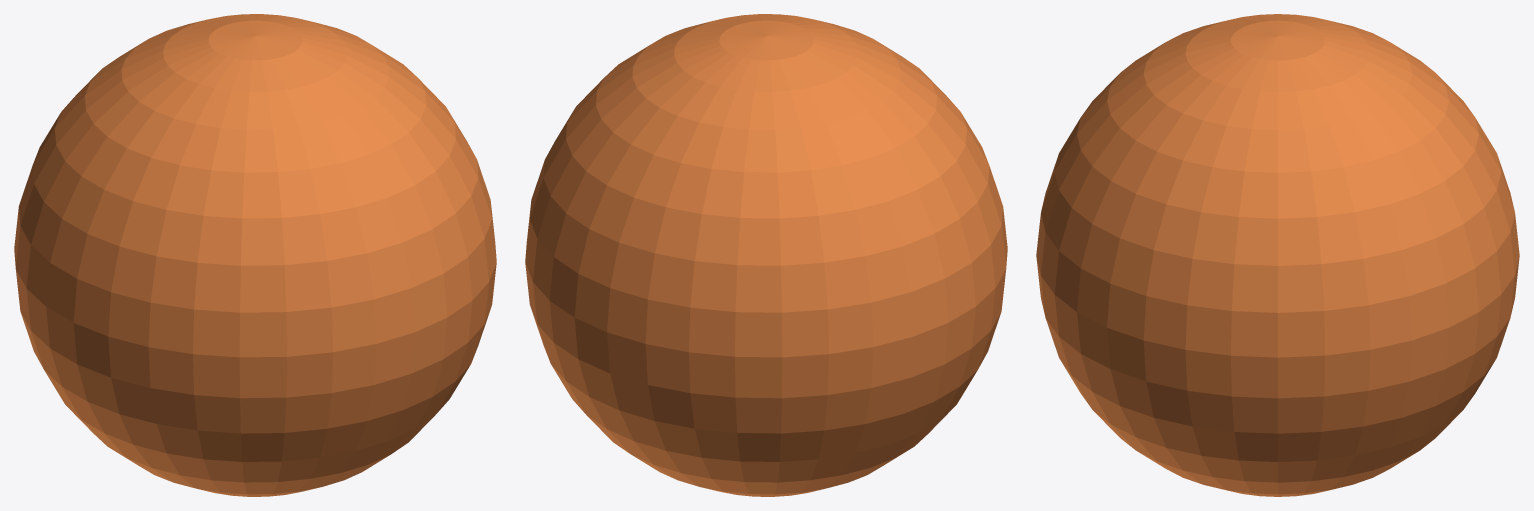
Rendered from kyuu.fbx.
3 views of the same model, side by side, from view 1: azimuth 30°, elevation 25°; view 2: azimuth 150°, elevation 25°; view 3: azimuth 270°, elevation 25° (orthographic).
Parts seen in each view (by area): view 1: Sphere.002, Sphere.001; view 2: Sphere.002, Sphere.001; view 3: Sphere.002, Sphere.001.
Boxes of the visible parts, bbox=[...] form: Sphere.002: bbox=[14, 14, 496, 377]; Sphere.001: bbox=[18, 284, 494, 496]; Sphere.002: bbox=[525, 14, 1007, 377]; Sphere.001: bbox=[527, 284, 1003, 496]; Sphere.002: bbox=[1036, 14, 1519, 377]; Sphere.001: bbox=[1038, 278, 1517, 496].
Bounding box in the file's own units: 200 × 200 × 200.
